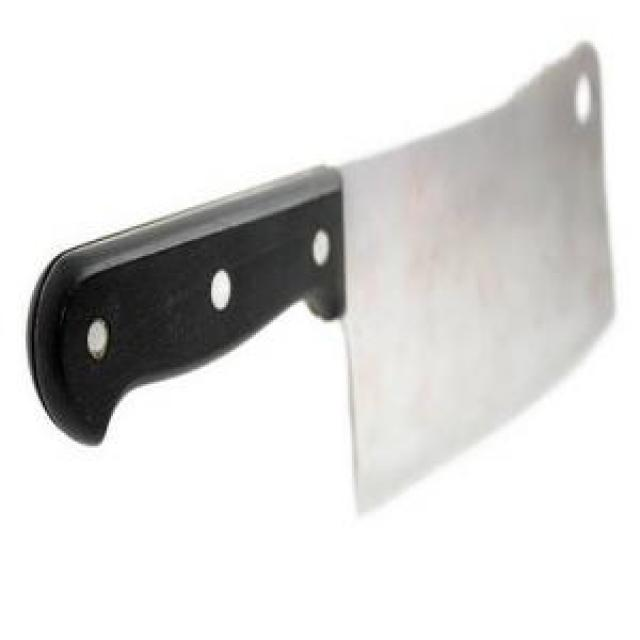knife: (24, 36, 618, 529)
